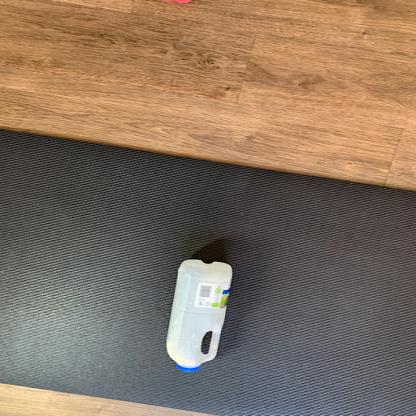trash: (166, 258, 233, 376)
